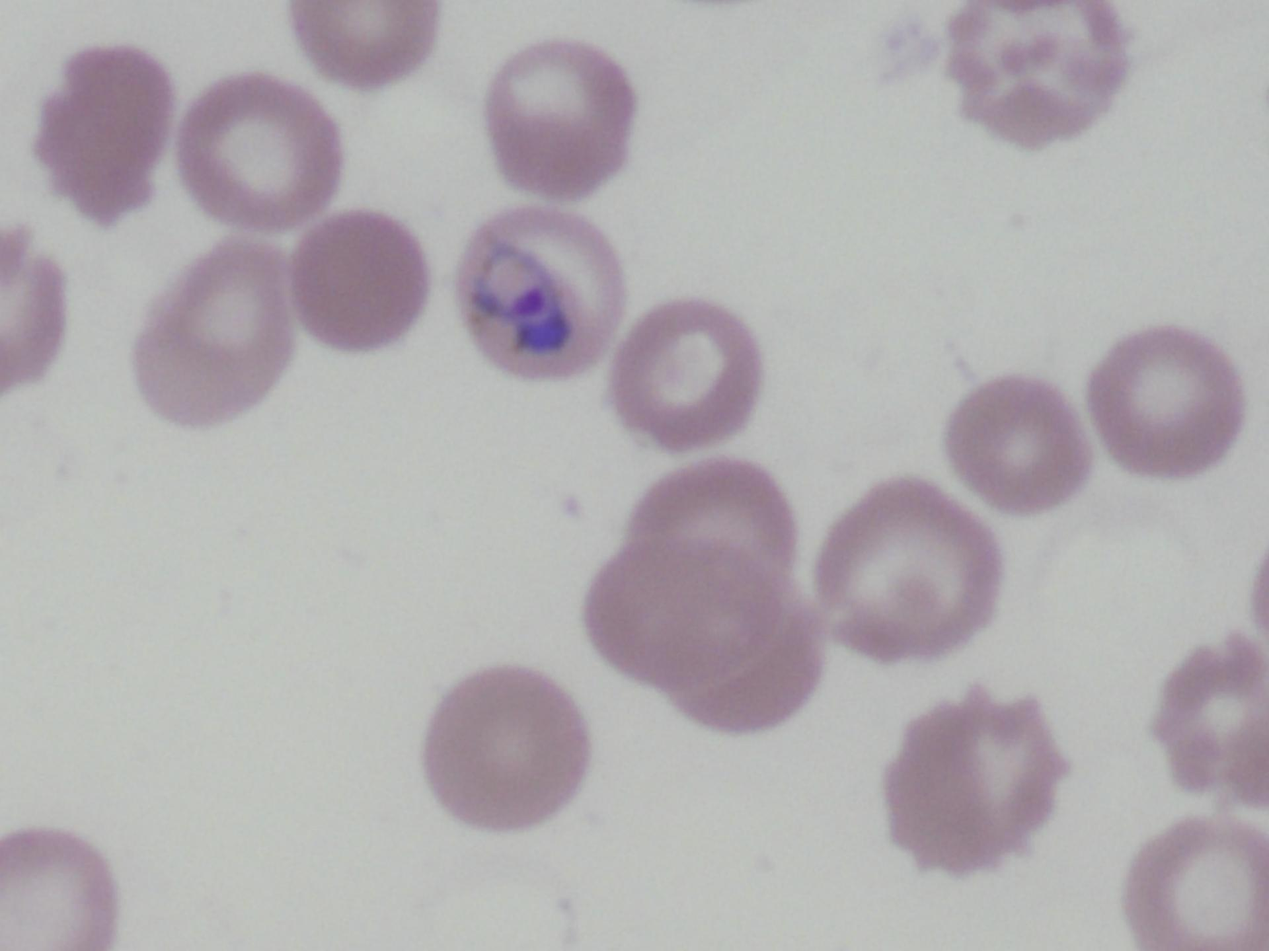Infected: (456, 205, 629, 380)
Uninfected: (814, 480, 999, 662), (886, 688, 1064, 871), (134, 241, 298, 426), (419, 665, 595, 835), (587, 542, 784, 685), (174, 71, 345, 231), (35, 42, 175, 220), (489, 40, 638, 202), (1087, 324, 1243, 475), (607, 300, 763, 449), (673, 595, 830, 732), (943, 373, 1091, 511), (289, 212, 428, 347), (629, 462, 792, 574), (1152, 638, 1265, 798), (1125, 821, 1266, 946), (3, 831, 116, 944), (294, 0, 436, 85)
